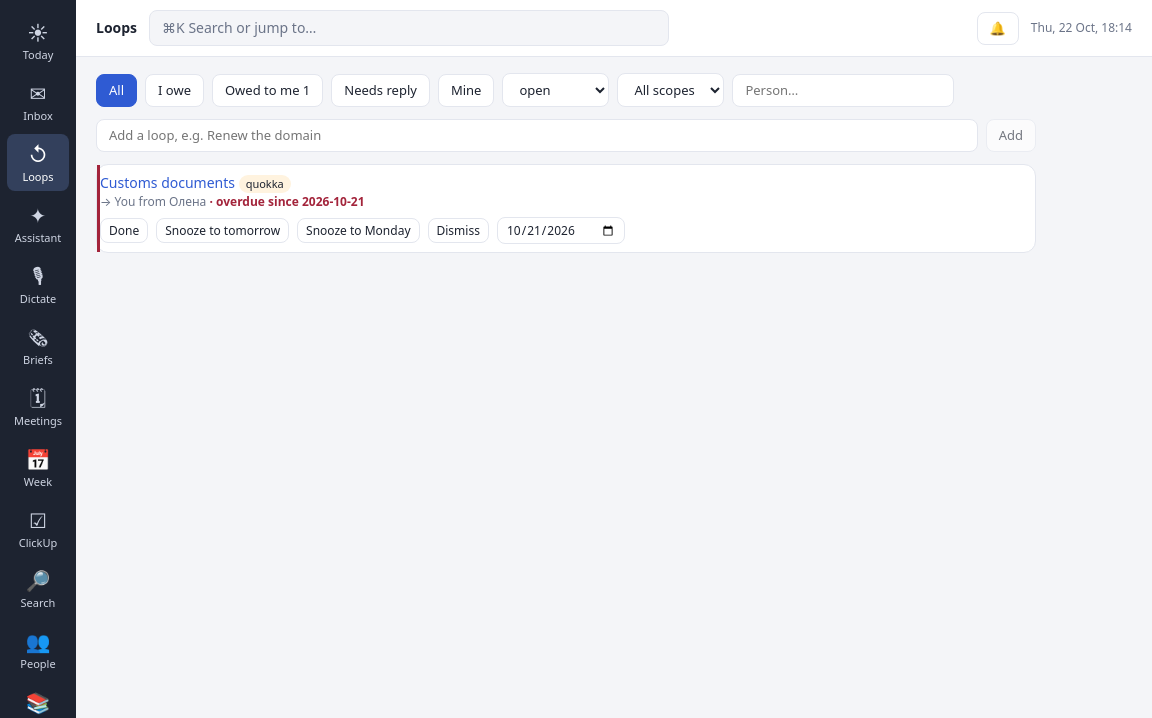
Test: loops page shows overdue promises and snoozing removes them
The width and height of the screenshot is (1152, 718).
Expected: the link "Customs documents" is shown, top-left (100, 173), bottom-right (235, 192)
Expected: the text "· overdue since 2026-10-21" is shown, top-left (206, 193), bottom-right (365, 210)
Click the button "Snooze to Monday" at (358, 230), box top-left (297, 218), bottom-right (420, 243)
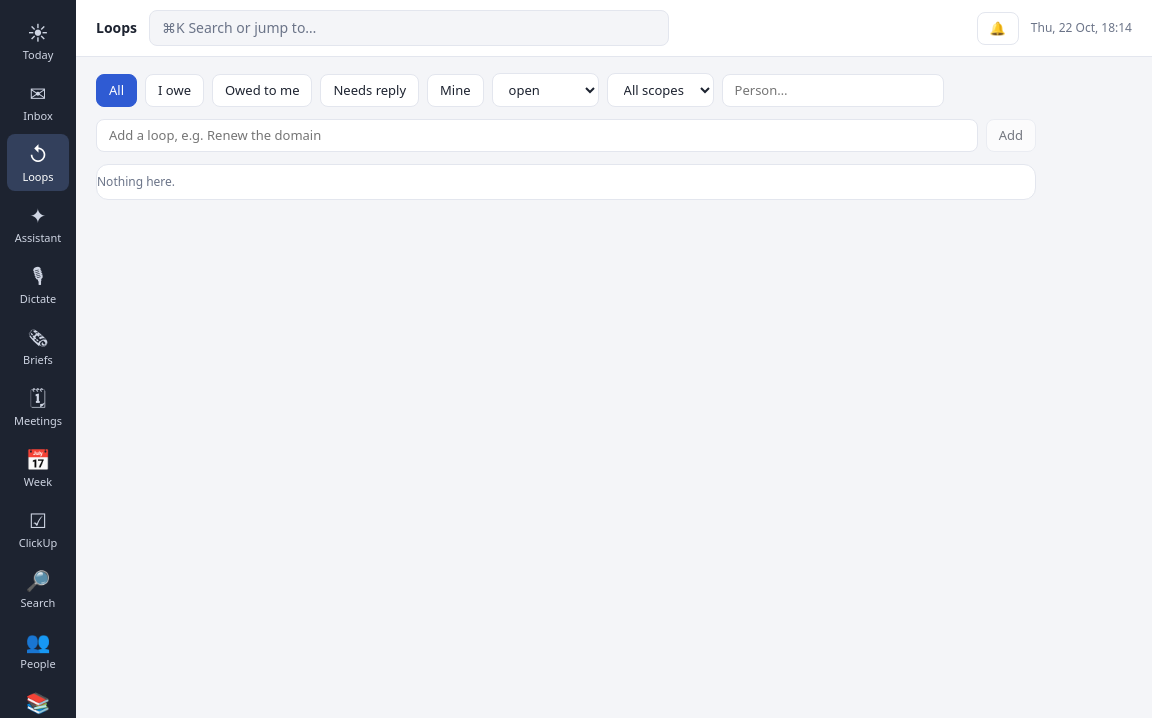
Expected: the link "Customs documents" is gone
